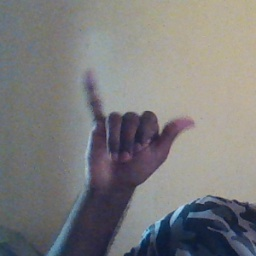J: (74, 68, 196, 187)
